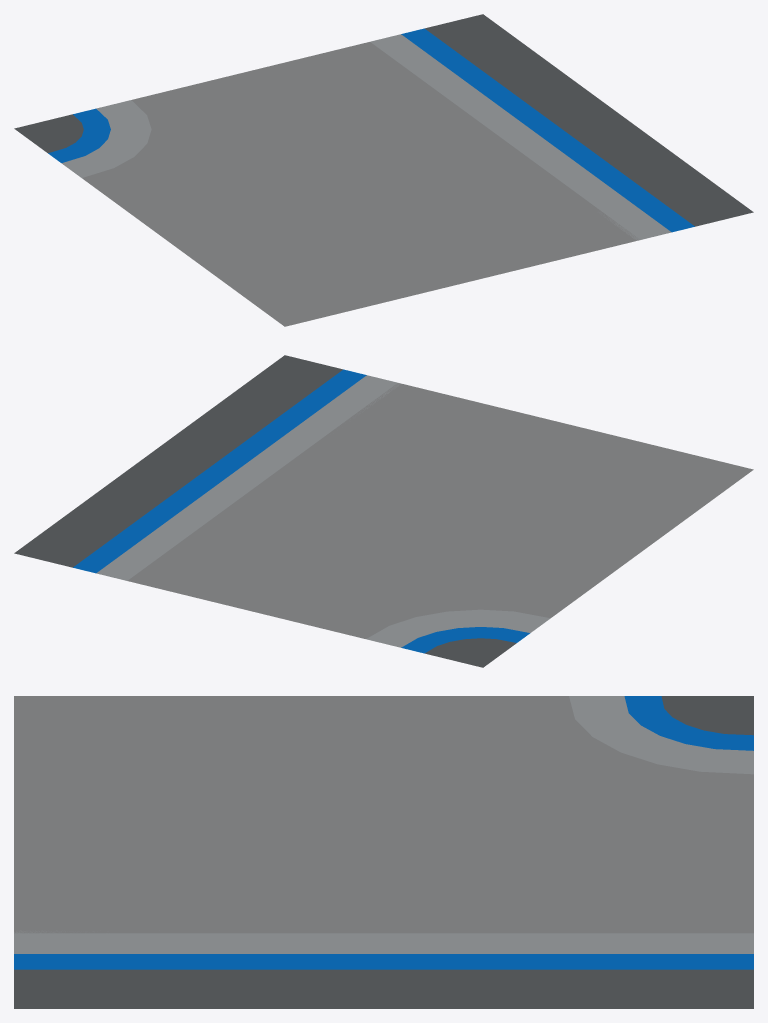
The model's file is Ceiling_type_B_011.004.fbx.
3 views of the same model, one above another, from view 1: azimuth 30°, elevation 25°; view 2: azimuth 150°, elevation 25°; view 3: azimuth 270°, elevation 25° (orthographic). The views are drawn at different scales.
Parts seen in each view (by area): view 1: Ceiling_type_B_011.004; view 2: Ceiling_type_B_011.004; view 3: Ceiling_type_B_011.004.
Boxes of the visible parts, x1,y1,x2,y2 form: Ceiling_type_B_011.004: [14, 14, 753, 326]; Ceiling_type_B_011.004: [14, 355, 753, 667]; Ceiling_type_B_011.004: [14, 696, 753, 1008].
Size of the model in its own units: 400 by 400 by 5.7.
